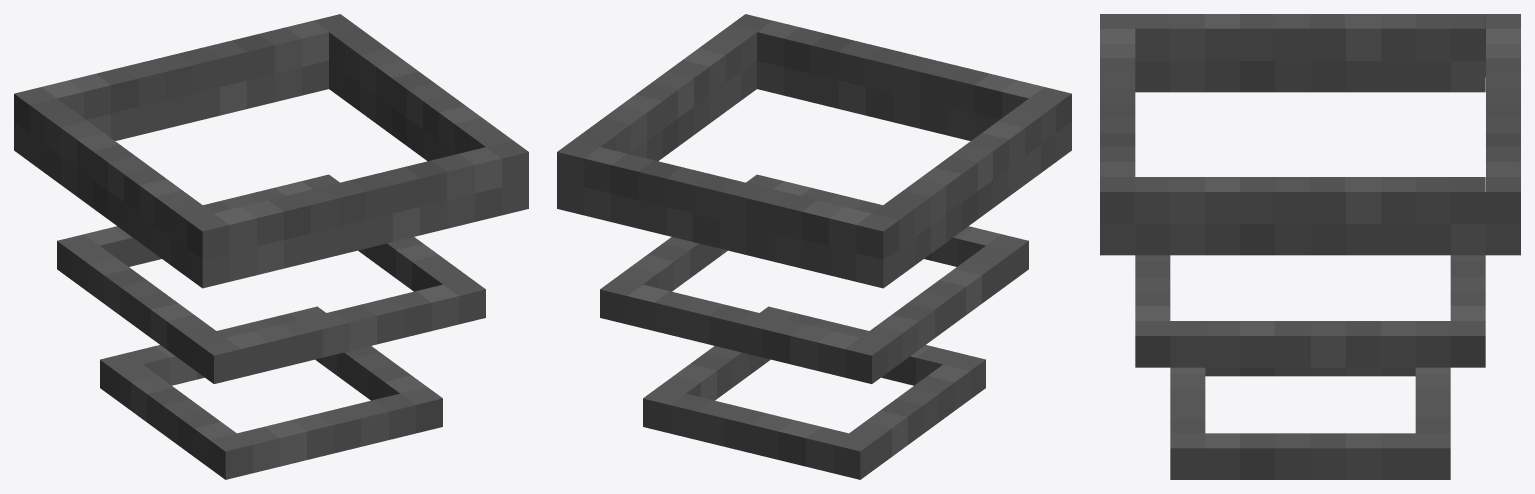
Rendered from magnifier.obj.
3 views of the same model, side by side, from view 1: azimuth 30°, elevation 25°; view 2: azimuth 150°, elevation 25°; view 3: azimuth 270°, elevation 25° (orthographic). The views are drawn at different scales.
Parts seen in each view (by area): view 1: model.003; view 2: model.003; view 3: model.003.
Boxes of the visible parts, left/top/right/bottom form: model.003: left=14, top=14, right=528, bottom=479; model.003: left=557, top=14, right=1071, bottom=479; model.003: left=1100, top=14, right=1520, bottom=479.
Size of the model in its own units: 0.75 by 0.625 by 0.75.
